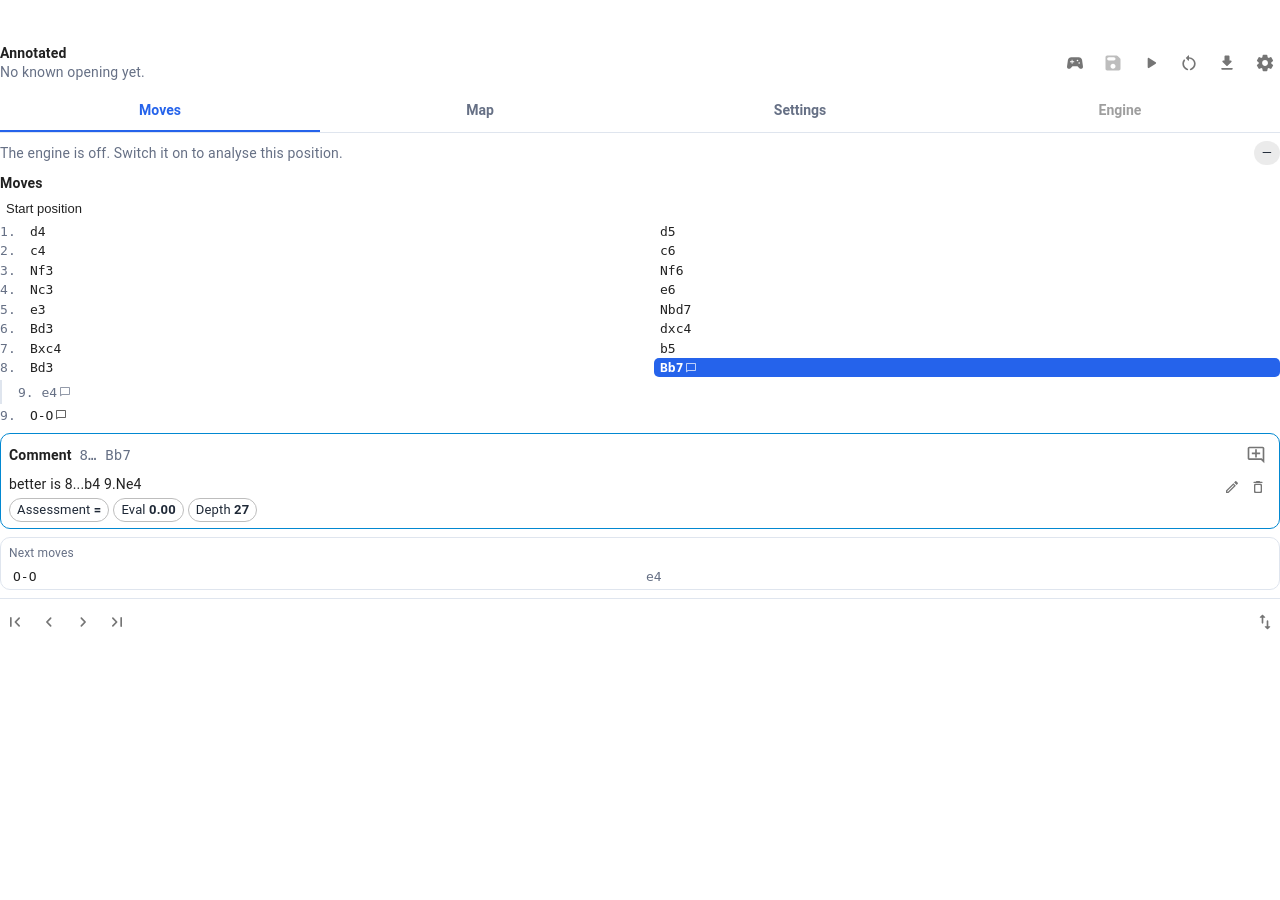
Test case: editing a move's comment › edits one from the block — a session change, Save lights up
Expected: the button with test id "repertoire-board-save" is disabled, [1098,48,1128,78]
Click the button with test id "repertoire-board-annotations-after-0-edit" at x=1232, y=487, box [1219,474,1245,500]
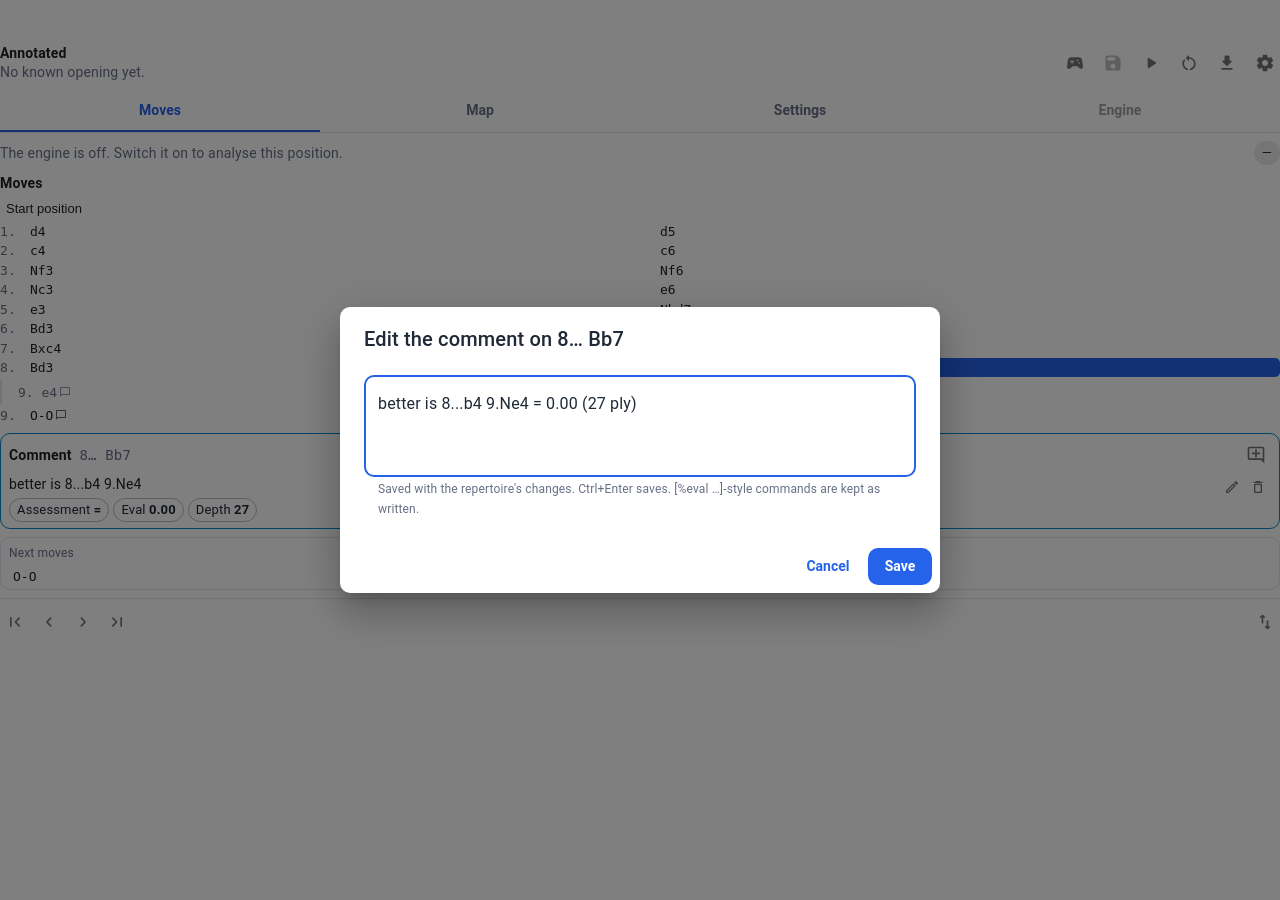
Now the text box with test id "comment-dialog-text" holds "better is 8...b4 9.Ne4 = 0.00 (27 ply)"
Replace the text in the text box with test id "comment-dialog-text" with "Playable." at x=640, y=426, box [378,392,902,461]
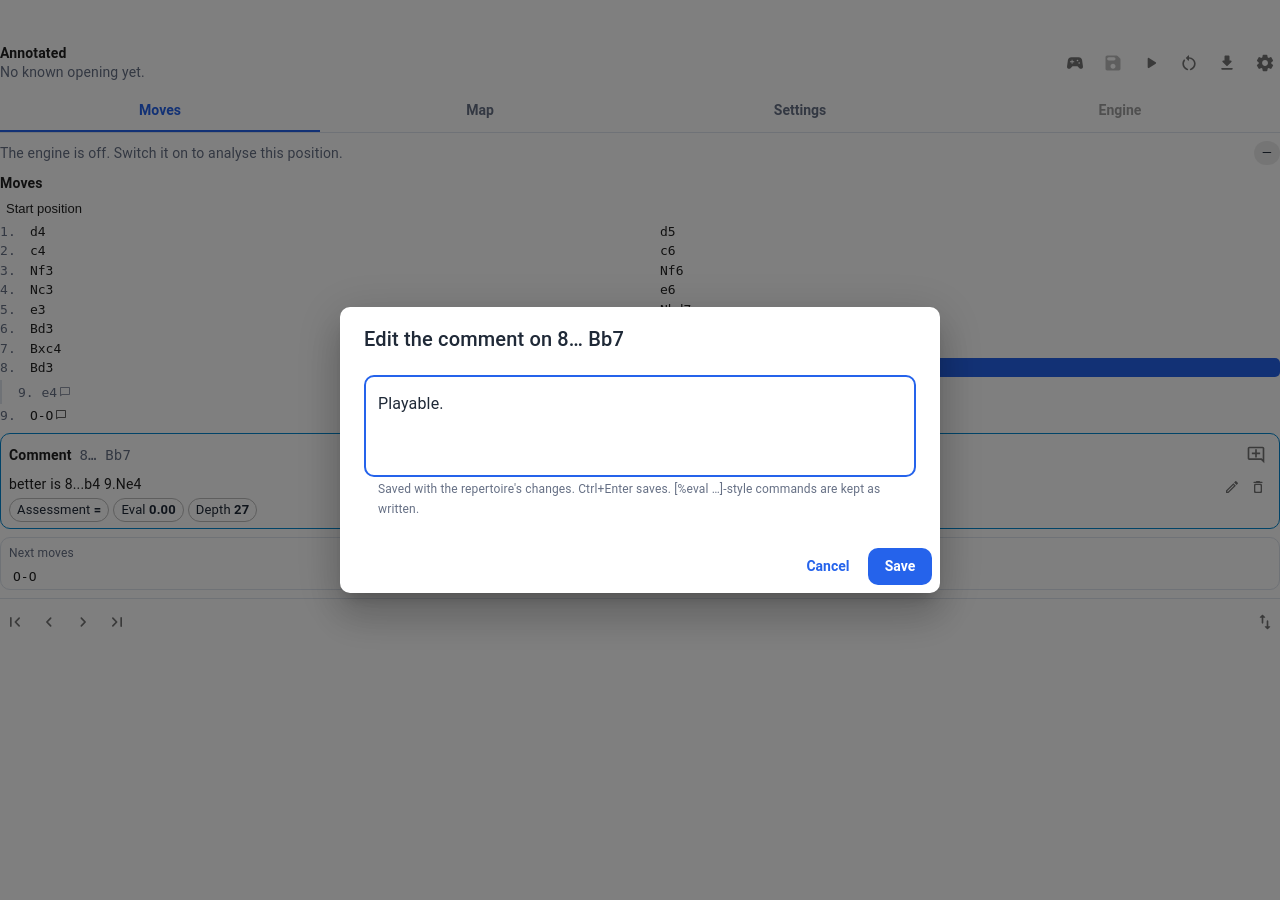
Click the button with test id "comment-dialog-save" at x=900, y=566, box [868,548,932,585]
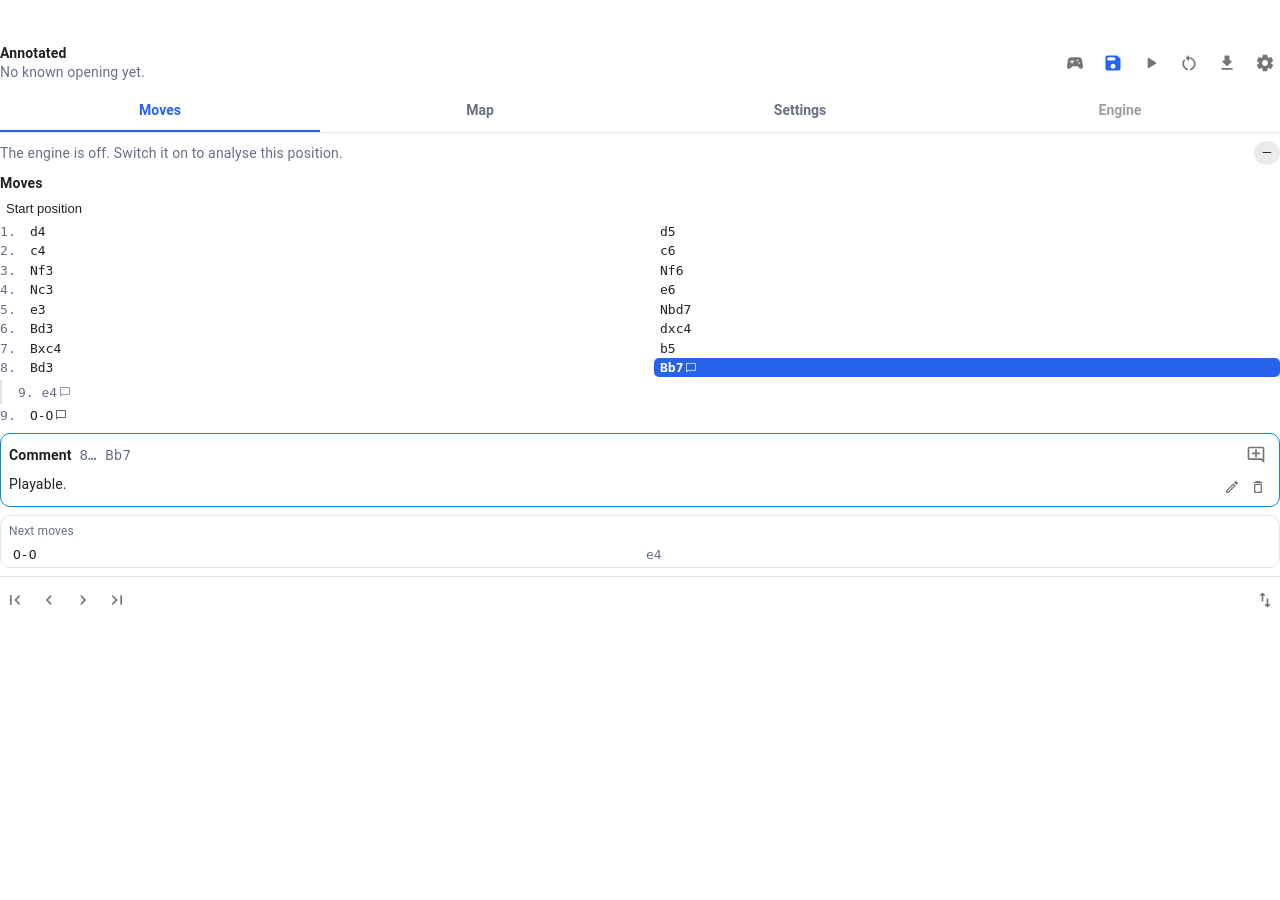
Now the element with test id "repertoire-board-annotations-after-0" reads "Playable.", box [9,476,67,492]
Now the button with test id "repertoire-board-save" is enabled
Click the button with test id "repertoire-board-save" at x=1113, y=63, box [1098,48,1128,78]
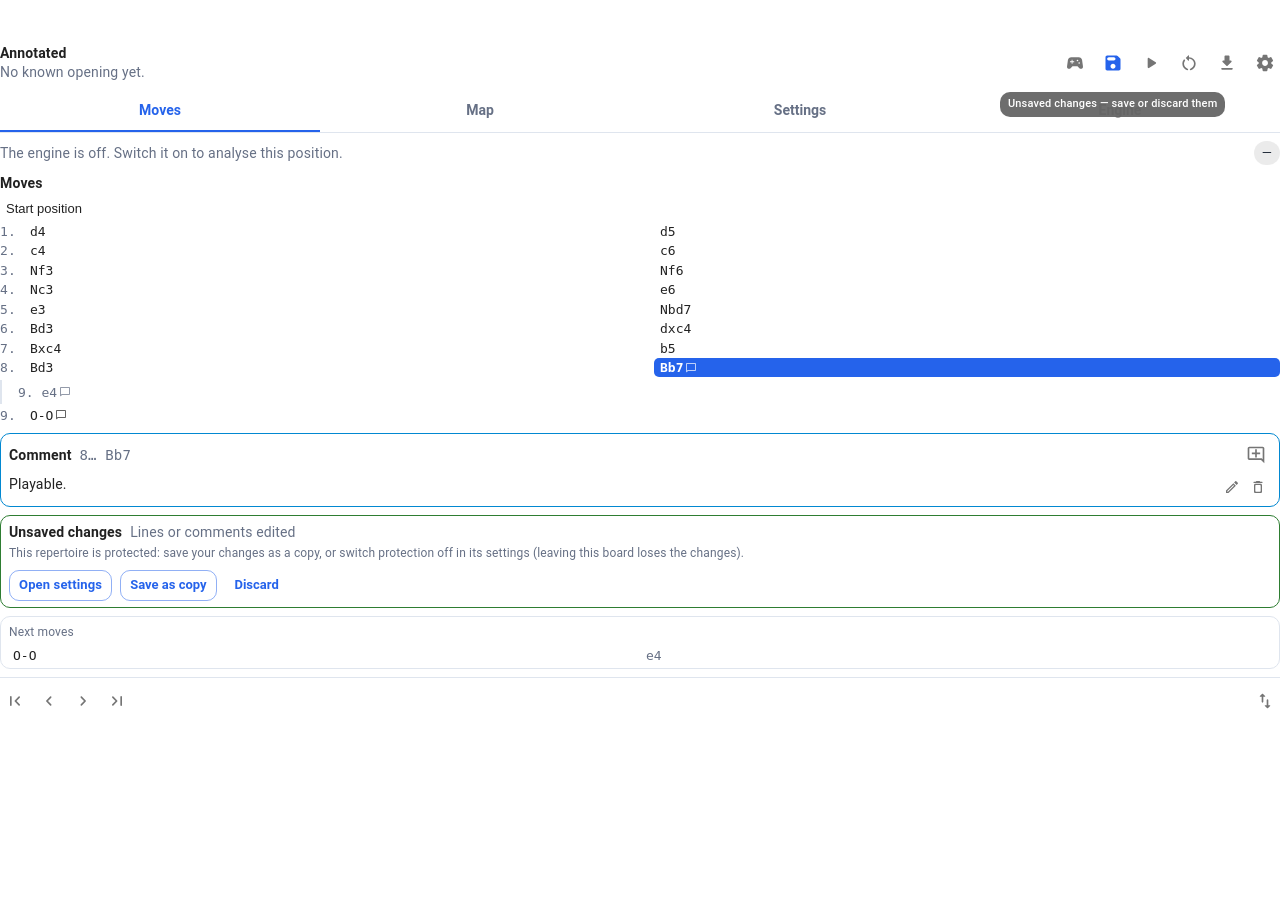
Now the text with test id "repertoire-board-changes-summary" reads "Lines or comments edited", box [130,524,296,540]
